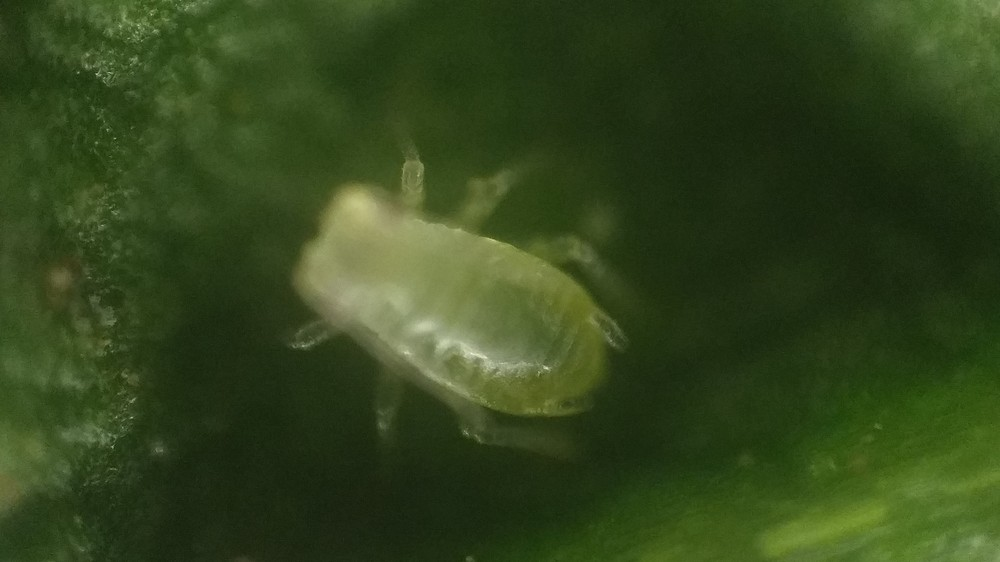Pulgon: (241, 113, 680, 480)
